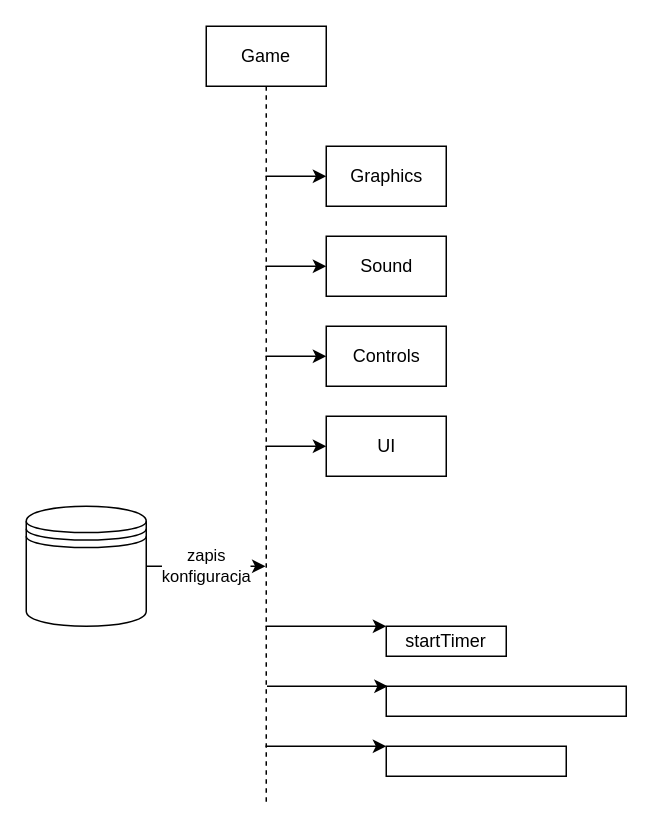
This 653x833 diagram has some shape labels left out. Here are the shapes that lost their labels. From the top down, the box of each, then its label:
(25, 505, 146, 626): magazyn lokalny
(385, 685, 626, 716): requestAnimationFrame
(385, 745, 566, 776): changeMusic
